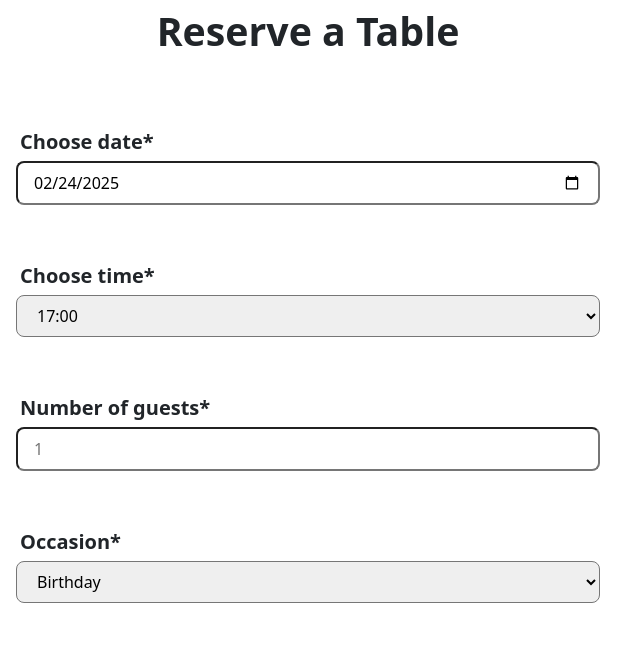
Test: Testing date input validation › Should show error message if there's no date
Clear the date field labelled "Choose date*": x=308, y=183 x1=16 y1=161 x2=600 y2=205
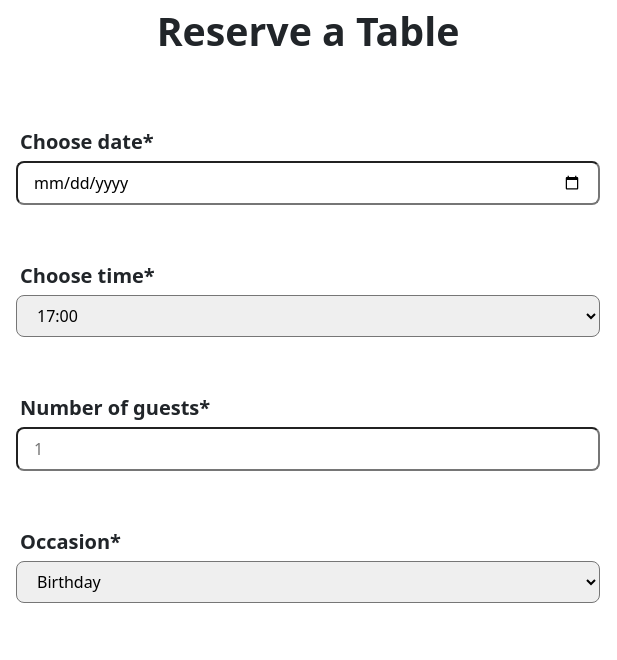
Leave the date field labelled "Choose date*", box x1=16 y1=161 x2=600 y2=205
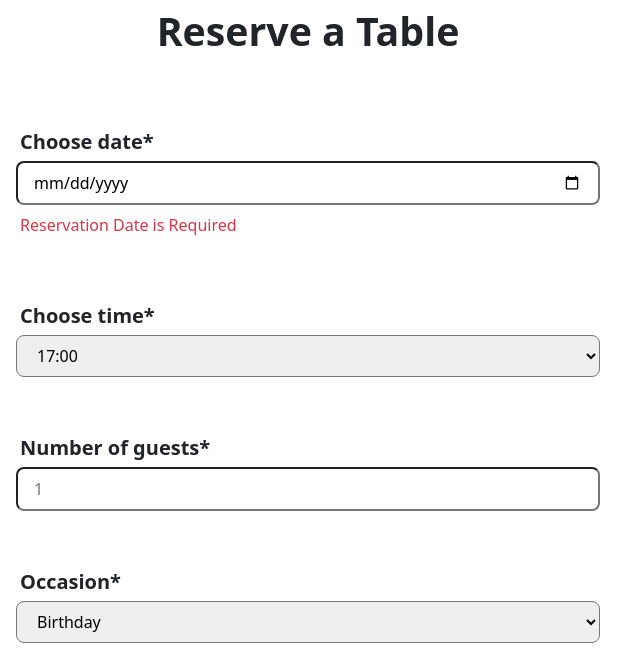
Expected: the text "Reservation Date is Required" is shown, x1=20 y1=214 x2=237 y2=236
